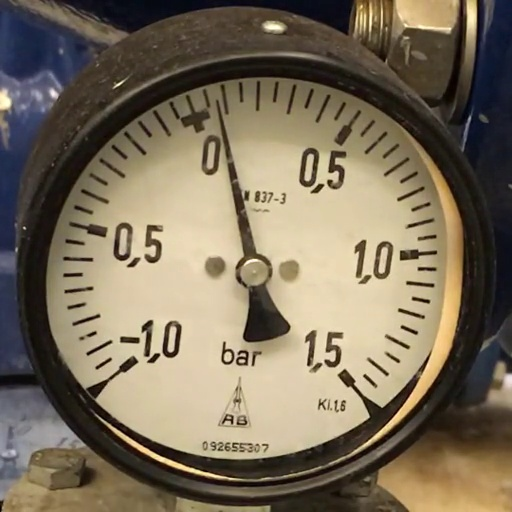base: (235, 254, 273, 287)
circle_plate: (45, 76, 464, 460)
maximum: (338, 369, 356, 388)
minimum: (120, 354, 138, 372)
number: (120, 320, 182, 362), (299, 146, 347, 194), (113, 222, 163, 266), (304, 330, 345, 374), (354, 240, 394, 284), (200, 134, 222, 176)
tip: (214, 96, 221, 106)
